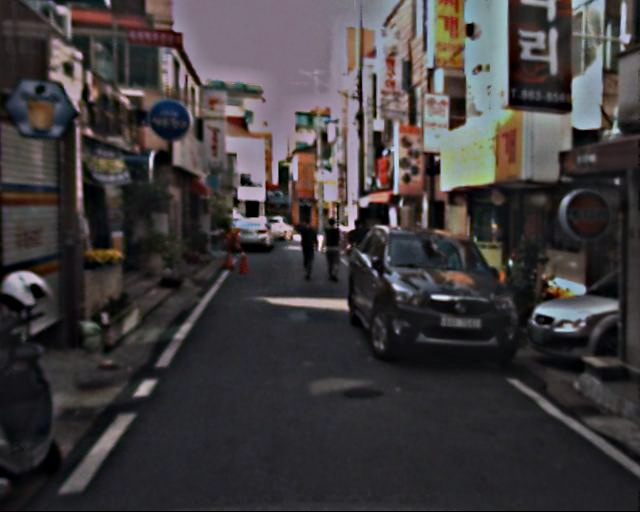person: (342, 219, 369, 285), (295, 219, 321, 282), (320, 218, 345, 280)
